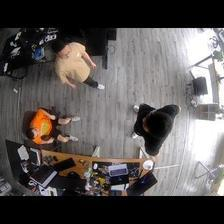normal: (49, 38, 105, 92), (131, 100, 180, 157), (27, 107, 80, 146)
